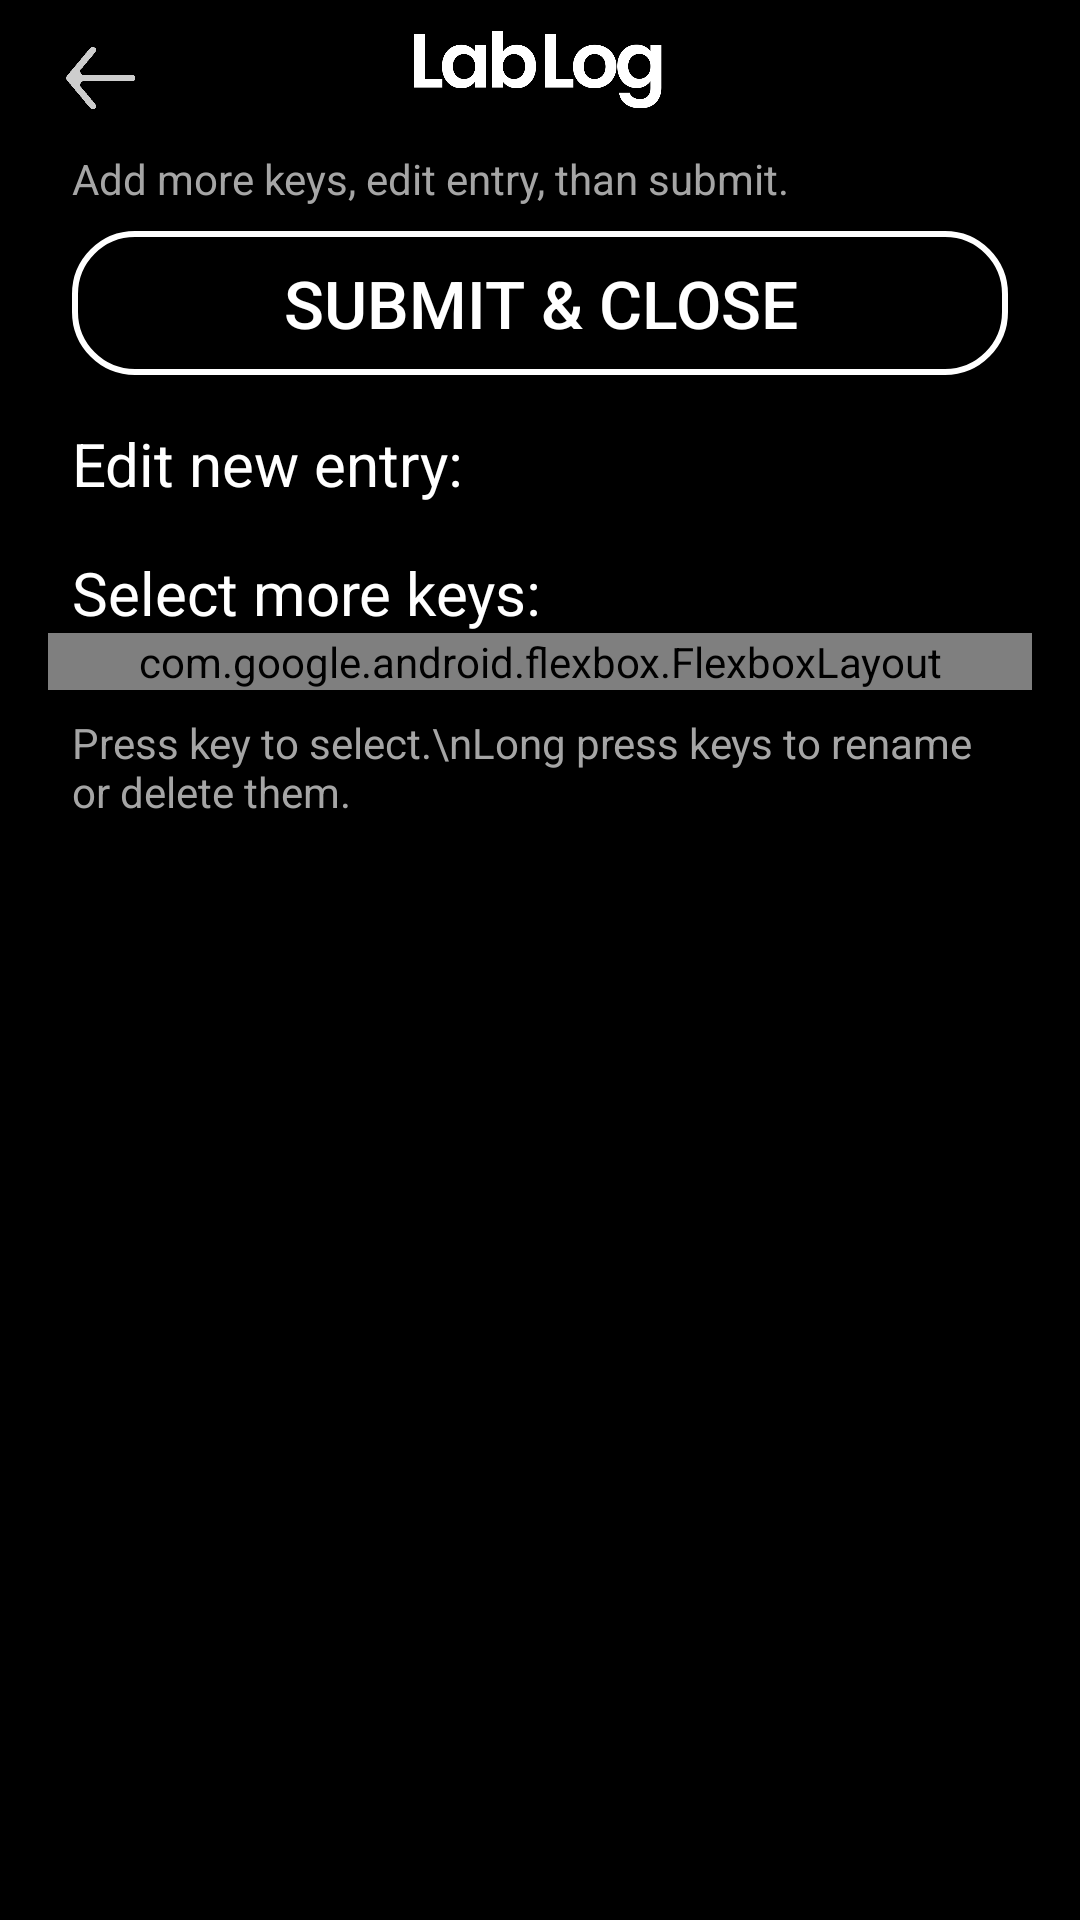

Locate icon controls on the screen. Image size 1080x1920, boxes as (x1, y1, x2, y2).
back icon: (66, 47, 135, 109)
